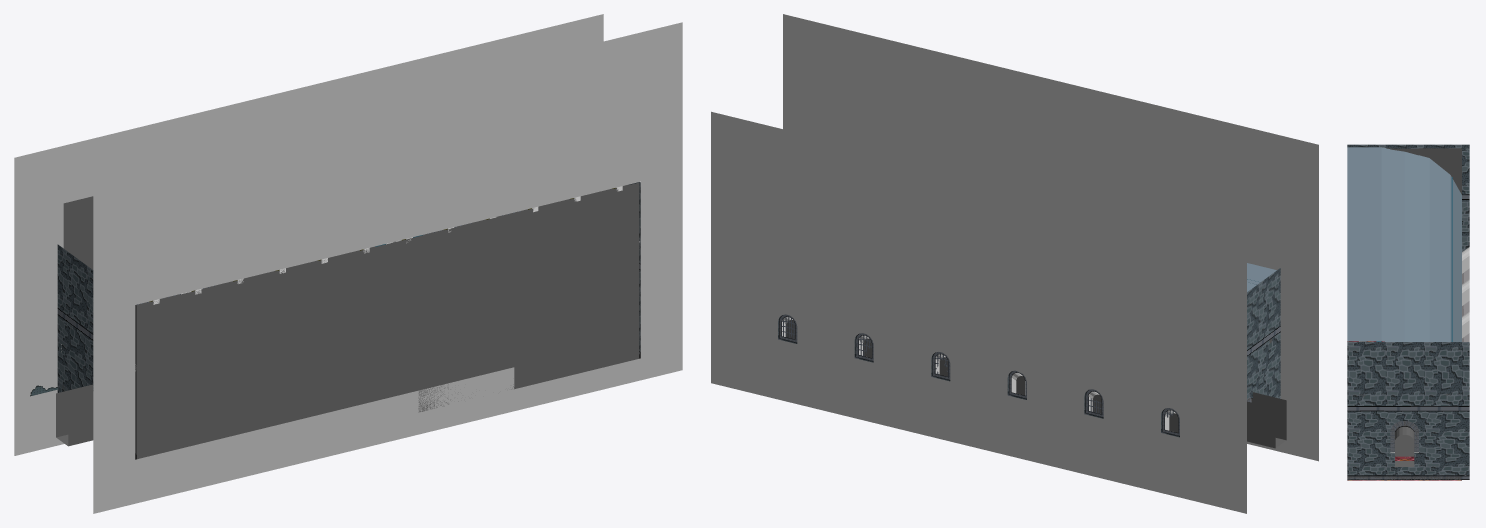
The model's file is gon_09_bake.dae.
The picture shows the model from 3 angles, left to right: view 1: azimuth 30°, elevation 25°; view 2: azimuth 150°, elevation 25°; view 3: azimuth 270°, elevation 25°; orthographic projection. The views are drawn at different scales.
Visible parts, largest first — view 1: kuro8, a_kabemae, polySurface909_q00105, polySurface473_q00099_part0, polySurface409_q00007, a_kabeushi; view 2: polySurface909_q00105, kuro8, polySurface473_q00099_part0, polySurface409_q00007, polySurface909_q00103_part1, a_kabeushi; view 3: polySurface7_q00143, polySurface474_q00100_part0, polySurface474_q00100_part1, a_kabeyoko, polySurface473_q00099_part0, polySurface787_q00094, polySurface890_q00109, pCube151_q00090, pCube151_q00105_part1, polySurface890_q00110, polySurface494_q00129_part0.
Part boxes in pixels (x1,y1,x2,y2): kuro8: (93,22,682,513); a_kabemae: (136,182,639,459); polySurface909_q00105: (14,14,603,455); polySurface473_q00099_part0: (57,244,93,392); polySurface409_q00007: (56,384,93,446); a_kabeushi: (63,196,395,256); polySurface909_q00105: (711,111,1246,513); kuro8: (783,14,1318,461); polySurface473_q00099_part0: (1247,268,1280,399); polySurface409_q00007: (1247,392,1286,448); polySurface909_q00103_part1: (779,314,1179,436); a_kabeushi: (786,320,1178,432); polySurface7_q00143: (1347,147,1461,341); polySurface474_q00100_part0: (1347,342,1469,475); polySurface474_q00100_part1: (1347,406,1469,479); a_kabeyoko: (1347,148,1461,479); polySurface473_q00099_part0: (1347,144,1469,251); polySurface787_q00094: (1395,435,1414,456); polySurface890_q00109: (1462,247,1469,305); pCube151_q00090: (1451,177,1452,341); pCube151_q00105_part1: (1462,268,1469,341); polySurface890_q00110: (1462,312,1469,338); polySurface494_q00129_part0: (1395,426,1414,439).
Size of what is drawn, in the model's own units: 140 by 79 by 32.5.
